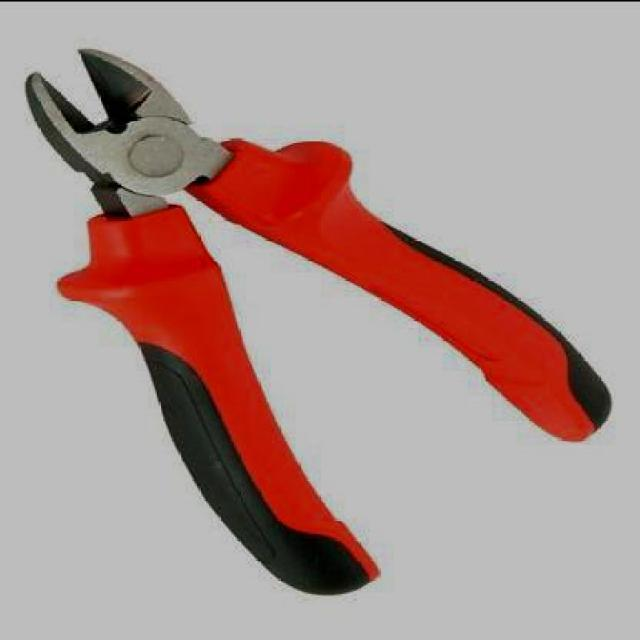pliers: (20, 43, 609, 591)
